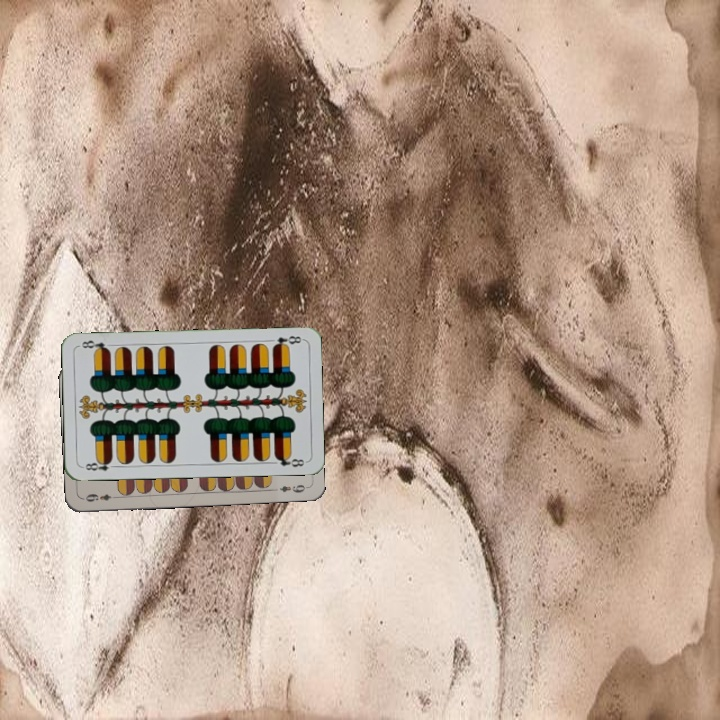E8: (79, 456, 120, 473), (268, 332, 304, 350)
E9: (80, 490, 120, 505)
